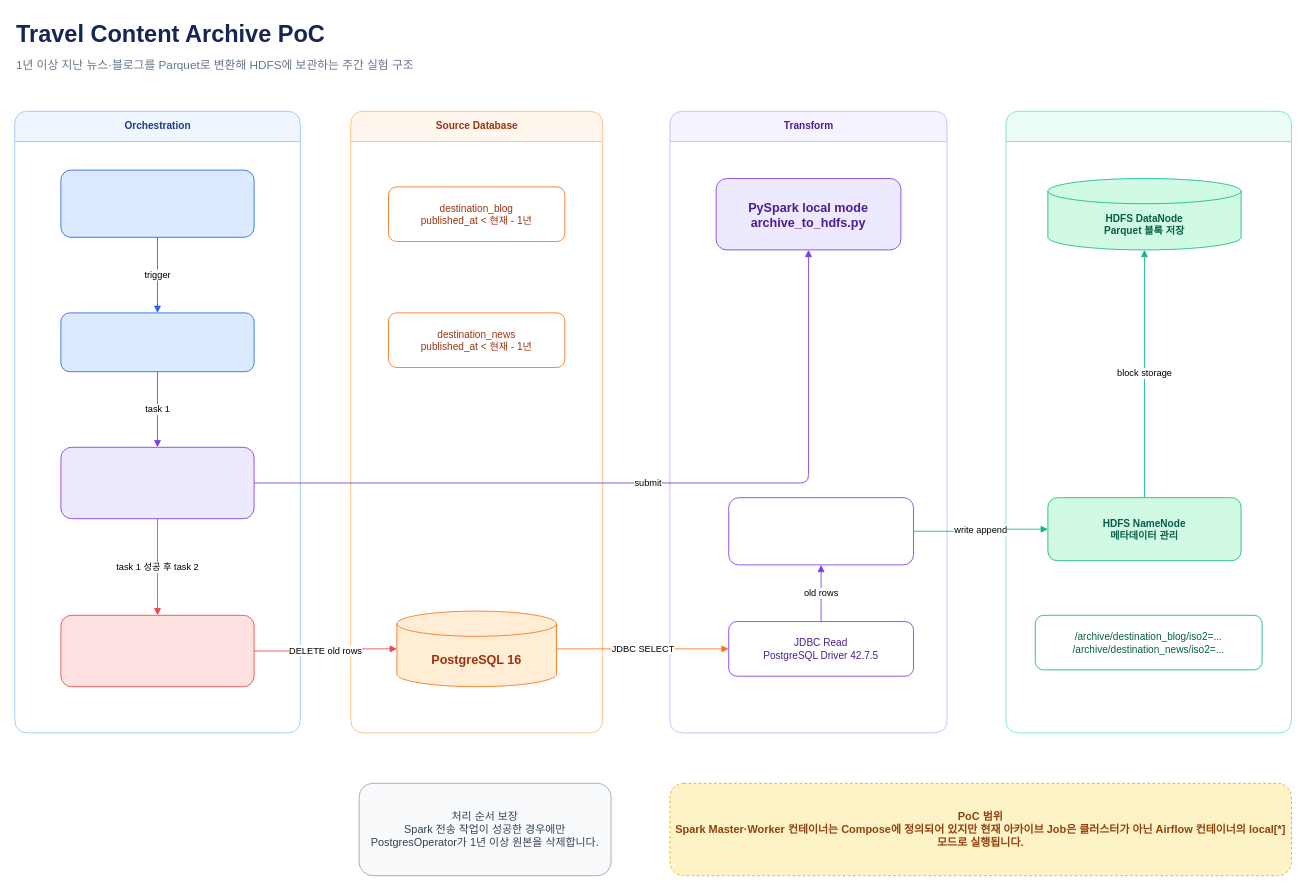
This 1306x890 diagram has some shape labels left out. The shapes that lost their labels are listed below. From the top down, each one's box as (x1, y1, x2, y2) in pixels, then its label:
(60, 169, 254, 237): Airflow Scheduler 매주 일요일 03:00
(60, 312, 254, 372): weekly_archive_to_hdfs DAG
(1005, 110, 1292, 733): Archive Storage
(60, 446, 254, 519): BashOperator spark-submit --master local[*]
(728, 497, 914, 565): Parquet 변환 iso2 기준 파티셔닝 append mode
(60, 614, 254, 687): PostgresOperator 전송 성공 후 원본 삭제
